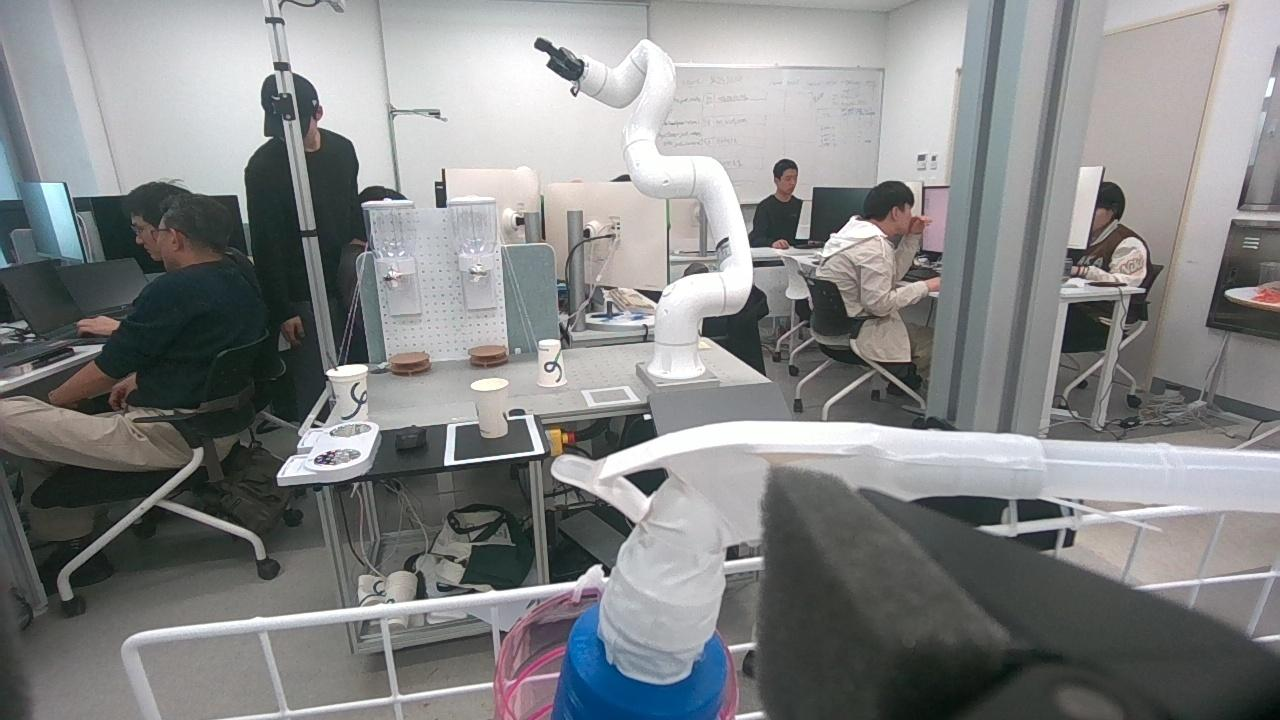Nozzle: (538, 416, 1045, 720)
